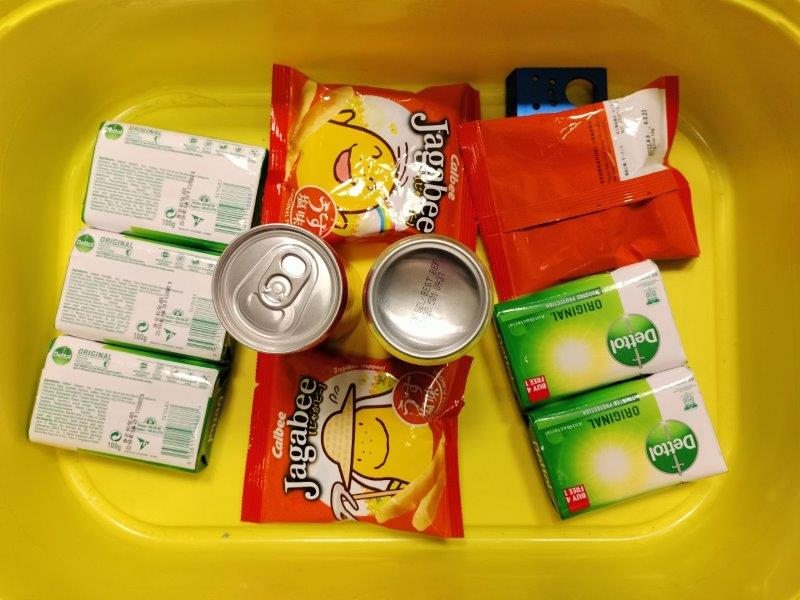Coke: (212, 224, 345, 355), (363, 234, 494, 366)
Dettol: (526, 366, 727, 518), (492, 260, 688, 410), (24, 337, 229, 475), (60, 230, 237, 365), (85, 123, 265, 252)
Jagabee: (460, 87, 703, 300), (245, 349, 465, 537), (265, 70, 478, 248)
